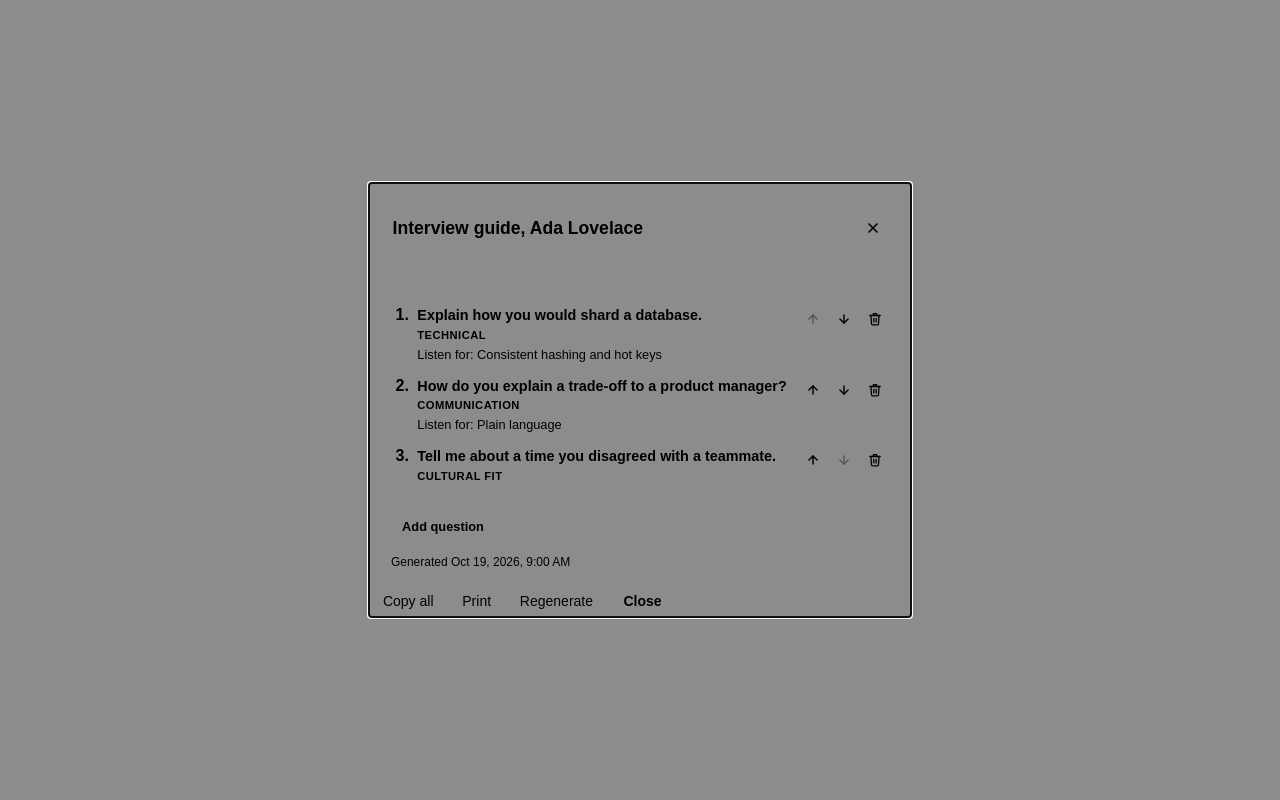
Test: generating › shows the server detail when the questions can no longer change, and keeps the guide
Expected: the text "Explain how you would shard a database." is shown, [417,307,702,323]
Click the button "Regenerate" at (556, 601), box [506,586,608,616]
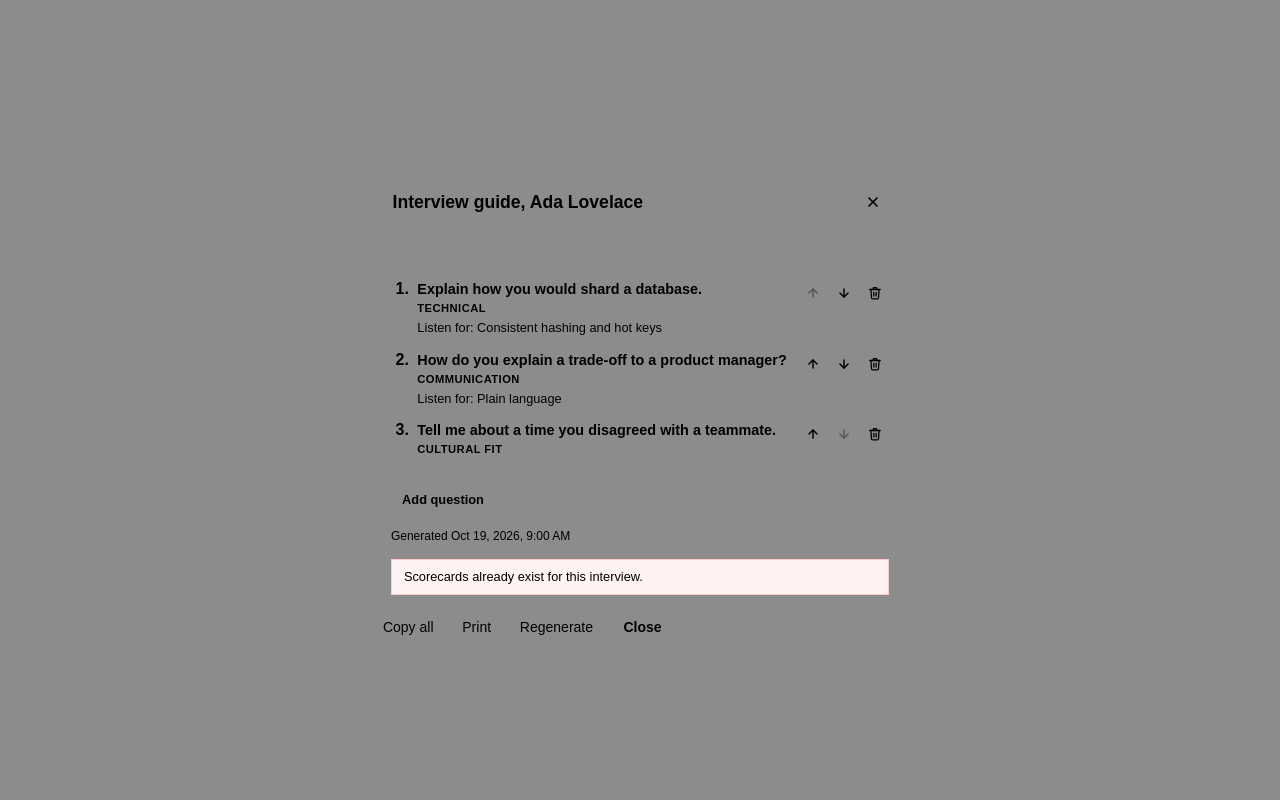
Expected: the text "Explain how you would shard a database." is shown, [417,281,702,297]
Result: the message reads "Scorecards already exist for this interview." at [404,568,643,584]
